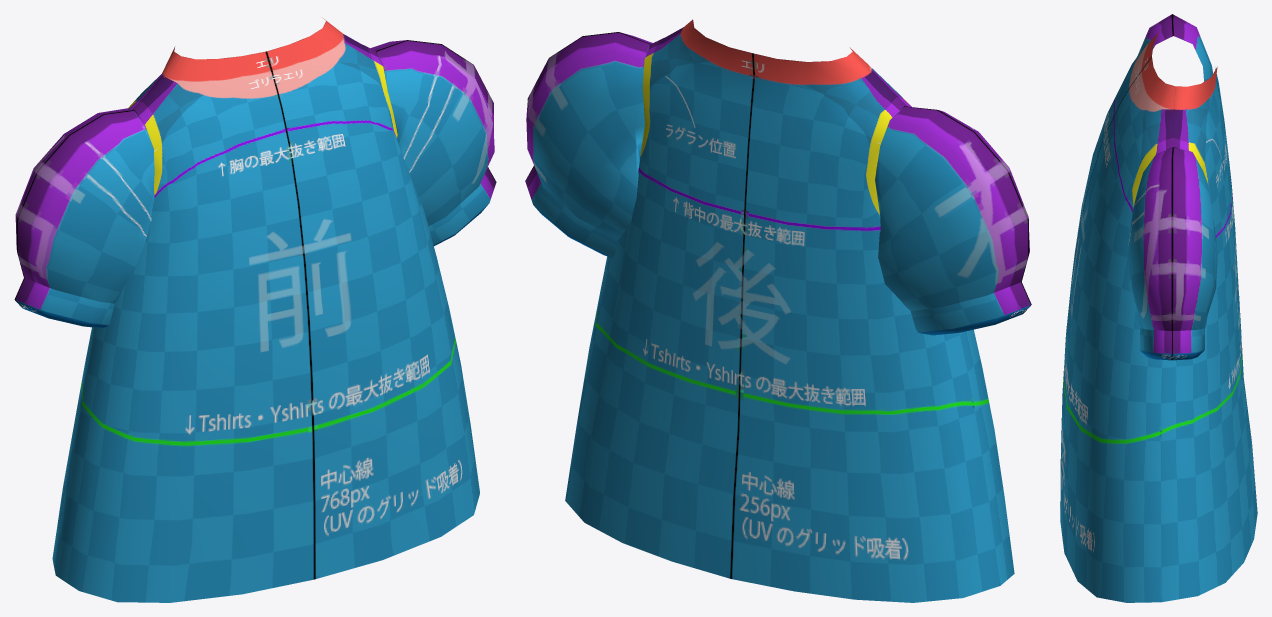
The model's file is FurnitureTopsTopPuffH.glb.
3 views of the same model, side by side, from view 1: azimuth 30°, elevation 25°; view 2: azimuth 150°, elevation 25°; view 3: azimuth 270°, elevation 25° (orthographic). The views are drawn at different scales.
Parts seen in each view (by area): view 1: Body__mTops; view 2: Body__mTops; view 3: Body__mTops.
Part boxes in pixels (<box>): Body__mTops: <box>14,18,496,602</box>; Body__mTops: <box>525,19,1031,602</box>; Body__mTops: <box>1060,14,1257,602</box>.
Size of the model in its own units: 5.55 by 5.46 by 2.08.
1 material, 1 textured.
